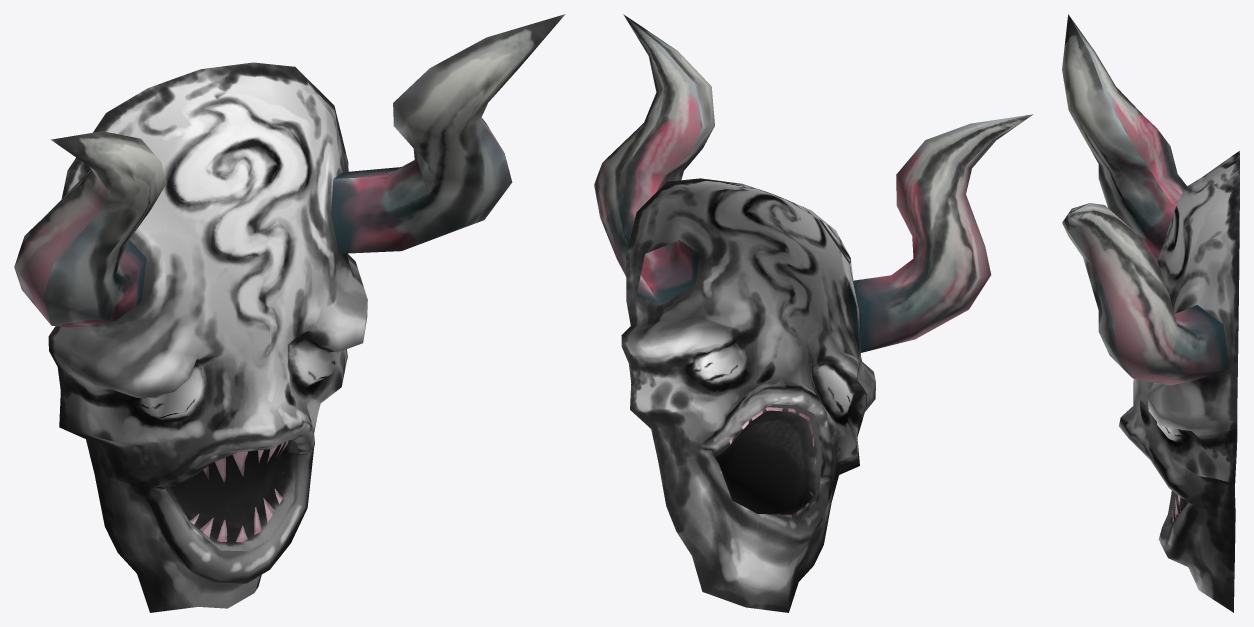
Rendered from CH_Jubokko_Mask03.FBX.
The picture shows the model from 3 angles, left to right: view 1: azimuth 30°, elevation 25°; view 2: azimuth 150°, elevation 25°; view 3: azimuth 270°, elevation 25°; orthographic projection. The views are drawn at different scales.
Parts seen in each view (by area): view 1: CH_Jubokko_Mask03; view 2: CH_Jubokko_Mask03; view 3: CH_Jubokko_Mask03.
Part boxes in pixels (box(x1,y1,x2,y2)): CH_Jubokko_Mask03: box(14, 14, 565, 612); CH_Jubokko_Mask03: box(594, 14, 1033, 612); CH_Jubokko_Mask03: box(1062, 14, 1239, 612).
Size of the model in its own units: 148 by 166 by 55.5.
